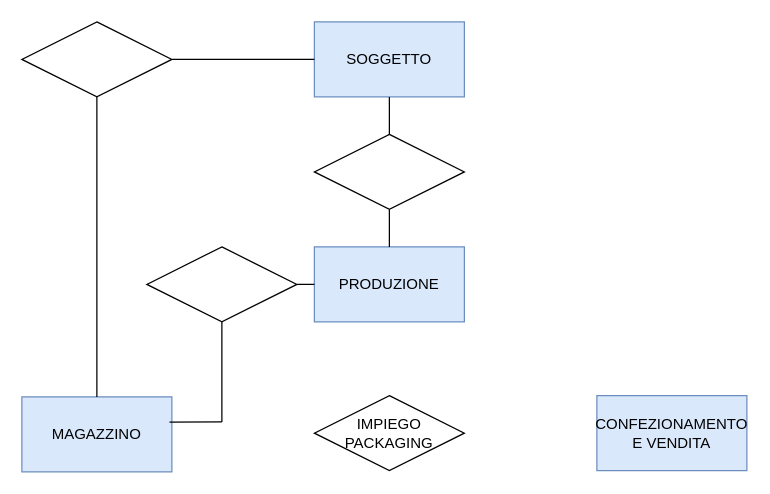
The diagram is 770 pixels wide and 494 high, and some of its shapes have lost their labels. Here are the shapes that lost their labels. From the top down, the box of each, then its label:
(21, 21, 172, 97): FORNITURA
(146, 246, 297, 322): IMPIEGO PRODUTTIVO
